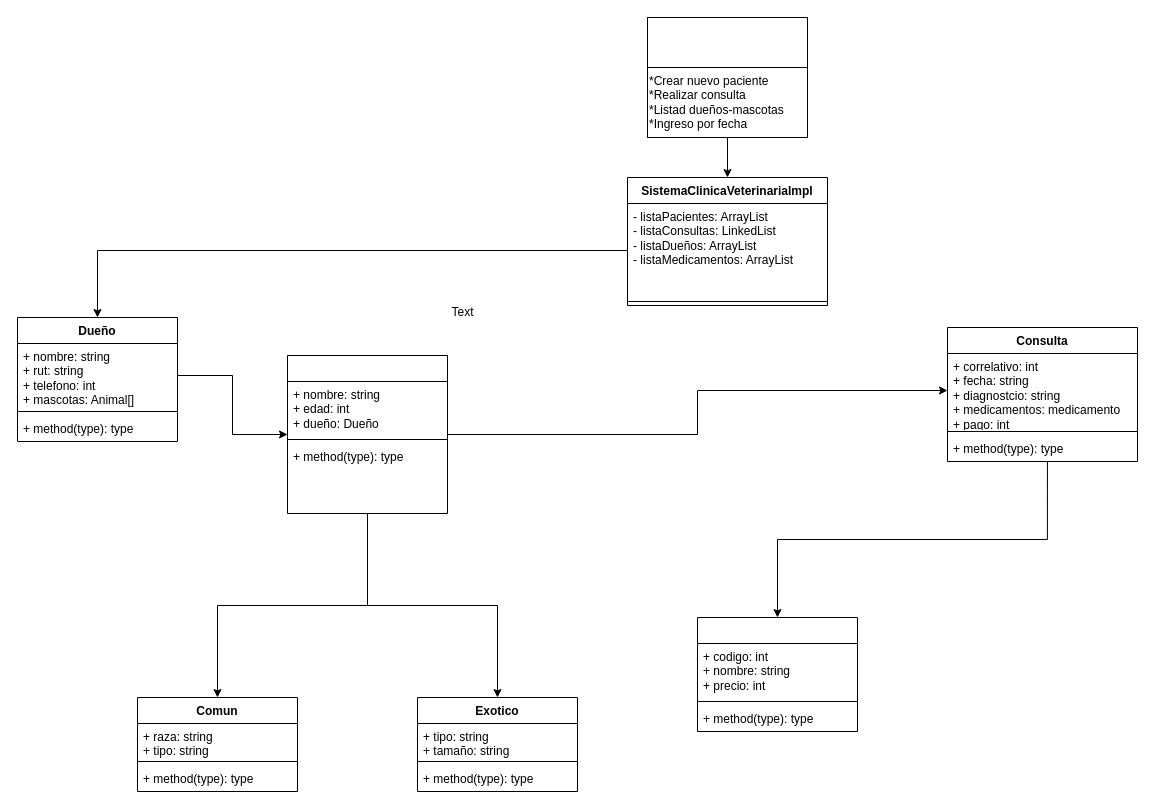
Some shapes in this 1155 by 812 pixel diagram are drawn without their labels. Here are the shapes that lost their labels. From the top down, the box of each, then its label:
(646, 16, 808, 68): «interface» SistemaClinicaVeterinaria
(286, 354, 448, 514): Animal
(696, 616, 858, 732): Medicamento
